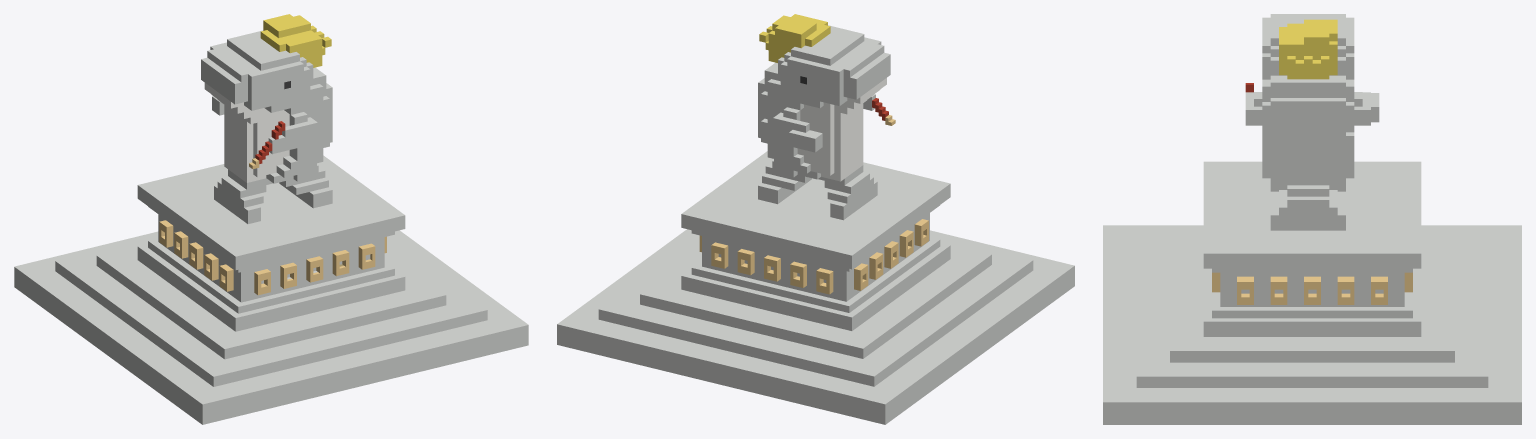
Rendered from temple-statue.glb.
3 renders of one model, left to right at view 1: azimuth 30°, elevation 25°; view 2: azimuth 150°, elevation 25°; view 3: azimuth 270°, elevation 25°, orthographic. The views are drawn at different scales.
Parts seen in each view (by area): view 1: Polygon; view 2: Polygon; view 3: Polygon.
Part boxes in pixels (box(x1,y1,x2,y2)): Polygon: box(14, 14, 528, 424); Polygon: box(557, 14, 1074, 424); Polygon: box(1103, 14, 1521, 424).
Size of the model in its own units: 10 by 8.4 by 10.
Materials: 1 (1 with a texture image).
